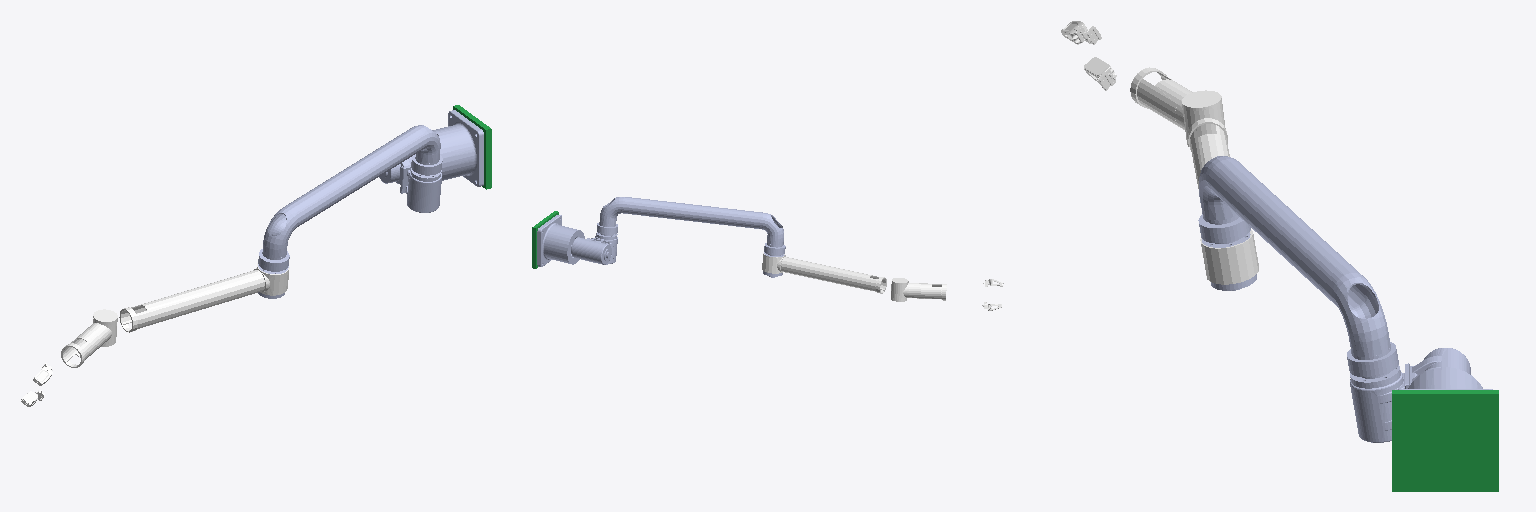
robot.urdf — gps__starlink_sldasm9:
<?xml version='1.0' encoding='utf-8'?>
<robot name="gps__starlink_sldasm9">
  <link name="base_link">
    <visual>
      <geometry>
        <mesh filename="../satellites/gps/satellite.stl" />
      </geometry>
      <material name="satellite_grey">
        <color rgba=".6 .7 .8 1" />
      </material>
    </visual>
    <collision>
      <geometry>
        <mesh filename="../satellites/gps/satellite.stl" />
      </geometry>
    </collision>
  </link>
  <link name="gps_mount" />
  <joint name="satellite_mount_fixed" type="fixed">
    <parent link="base_link" />
    <child link="gps_mount" />
    <origin xyz="-0.28457456828885463 0.0 0.15" rpy="0.0 -1.5707963267948966 0.0" />
  </joint>
  <link name="mount_support">
    <visual>
      <geometry>
        <mesh filename="../satellites/gps/mount_support.stl" />
      </geometry>
      <material name="mount_green">
        <color rgba=".2 .7 .35 1" />
      </material>
    </visual>
    <collision>
      <geometry>
        <mesh filename="../satellites/gps/mount_support.stl" />
      </geometry>
    </collision>
  </link>
  <joint name="support_fixed" type="fixed">
    <parent link="gps_mount" />
    <child link="mount_support" />
    <origin xyz="0 0 0" rpy="0 0 0" />
  </joint>
  <joint name="arm_adapter_fixed" type="fixed">
    <parent link="gps_mount" />
    <child link="starlink_space_manipulator_base_link" />
    <origin xyz="0.009087204933166504 0.008519247174263 0.15000000141561035" rpy="-1.5707963267948966 0 0" />
  </joint>
  <link name="starlink_space_manipulator_base_link">
    <inertial>
      <origin xyz="-0.00908719924946466 0.0225428225681148 -0.00851924929637313" rpy="0 0 0" />
      <mass value="8.66024015898073" />
      <inertia ixx="0.0960303512697639" ixy="1.65511904636803E-18" ixz="6.22039820639877E-19" iyy="0.103454922260914" iyz="-9.68471289978311E-19" izz="0.0960303512697639" />
    </inertial>
    <visual>
      <origin xyz="0 0 0" rpy="0 0 0" />
      <geometry>
        <mesh filename="../arms/starlink_sldasm9/meshes/starlink_space_manipulator_base_link.STL" />
      </geometry>
      <material name="">
        <color rgba="0.792156862745098 0.819607843137255 0.933333333333333 1" />
      </material>
    </visual>
    <collision>
      <origin xyz="0 0 0" rpy="0 0 0" />
      <geometry>
        <mesh filename="../arms/starlink_sldasm9/meshes/starlink_space_manipulator_base_link.STL" />
      </geometry>
    </collision>
  </link>
  <link name="starlink_space_manipulator_Shoulder_link_1">
    <inertial>
      <origin xyz="-0.000399471745595769 -0.100006574194712 -0.17423940484461" rpy="0 0 0" />
      <mass value="5.16309216784981" />
      <inertia ixx="0.0524543852135592" ixy="0.00348154867667969" ixz="6.96526910910627E-05" iyy="0.0306595326318824" iyz="-0.00056674368052247" izz="0.0439979075615329" />
    </inertial>
    <visual>
      <origin xyz="0 0 0" rpy="0 0 0" />
      <geometry>
        <mesh filename="../arms/starlink_sldasm9/meshes/starlink_space_manipulator_Shoulder_link_1.STL" />
      </geometry>
      <material name="">
        <color rgba="0.792156862745098 0.819607843137255 0.933333333333333 1" />
      </material>
    </visual>
    <collision>
      <origin xyz="0 0 0" rpy="0 0 0" />
      <geometry>
        <mesh filename="../arms/starlink_sldasm9/meshes/starlink_space_manipulator_Shoulder_link_1.STL" />
      </geometry>
    </collision>
  </link>
  <joint name="starlink_space_manipulator_Shoulder_link_1_yaw" type="revolute">
    <origin xyz="-0.0090872 -0.065 -0.0085192" rpy="1.5708 -0.15574 3.1416" />
    <parent link="starlink_space_manipulator_base_link" />
    <child link="starlink_space_manipulator_Shoulder_link_1" />
    <axis xyz="0 0 -1" />
    <limit lower="-3.14" upper="3.14" effort="0" velocity="0" />
  </joint>
  <link name="starlink_space_manipulator_Upper_arm_Link_1">
    <inertial>
      <origin xyz="0.402106341472203 -0.696465272634528 -0.170177523085579" rpy="0 0 0" />
      <mass value="5.05309869040685" />
      <inertia ixx="0.388719013133801" ixy="0.210155896498943" ixz="9.30829370680679E-08" iyy="0.146049057575642" iyz="1.71830458004218E-07" izz="0.500677708275447" />
    </inertial>
    <visual>
      <origin xyz="0 0 0" rpy="0 0 0" />
      <geometry>
        <mesh filename="../arms/starlink_sldasm9/meshes/starlink_space_manipulator_Upper_arm_Link_1.STL" />
      </geometry>
      <material name="">
        <color rgba="0.792156862745098 0.819607843137255 0.933333333333333 1" />
      </material>
    </visual>
    <collision>
      <origin xyz="0 0 0" rpy="0 0 0" />
      <geometry>
        <mesh filename="../arms/starlink_sldasm9/meshes/starlink_space_manipulator_Upper_arm_Link_1.STL" />
      </geometry>
    </collision>
  </link>
  <joint name="starlink_space_manipulator_Upper_arm_Link_1_roll" type="revolute">
    <origin xyz="0 -0.2 -0.18" rpy="1.5708 0.90646 1.5708" />
    <parent link="starlink_space_manipulator_Shoulder_link_1" />
    <child link="starlink_space_manipulator_Upper_arm_Link_1" />
    <axis xyz="0 0 -1" />
    <limit lower="-2" upper="1.5" effort="0" velocity="0" />
  </joint>
  <link name="starlink_space_manipulator_Mid_arm_Link_1">
    <inertial>
      <origin xyz="-0.000406052776441013 0.317722269561105 0.0155331755135703" rpy="0 0 0" />
      <mass value="1.57635531881168" />
      <inertia ixx="0.133610363618846" ixy="5.33750993405138E-05" ixz="-3.60473795202962E-09" iyy="0.00502119434334708" iyz="-2.514275749911E-05" izz="0.134586018527477" />
    </inertial>
    <visual>
      <origin xyz="0 0 0" rpy="0 0 0" />
      <geometry>
        <mesh filename="../arms/starlink_sldasm9/meshes/starlink_space_manipulator_Mid_arm_Link_1.STL" />
      </geometry>
      <material name="">
        <color rgba="1 1 1 1" />
      </material>
    </visual>
    <collision>
      <origin xyz="0 0 0" rpy="0 0 0" />
      <geometry>
        <mesh filename="../arms/starlink_sldasm9/meshes/starlink_space_manipulator_Mid_arm_Link_1.STL" />
      </geometry>
    </collision>
  </link>
  <joint name="starlink_space_manipulator_Mid_arm_Link_1_roll" type="revolute">
    <origin xyz="0.599999999999673 -1.03923048454122 0" rpy="-3.14159265358979 0 0.828250280535091" />
    <parent link="starlink_space_manipulator_Upper_arm_Link_1" />
    <child link="starlink_space_manipulator_Mid_arm_Link_1" />
    <axis xyz="0 0 -1" />
    <limit lower="-3.14" upper="3.14" effort="0" velocity="0" />
  </joint>
  <link name="starlink_space_manipulator_Upper_wrist_Link_1">
    <inertial>
      <origin xyz="-0.000400003664721815 -0.201565878030355 -0.00216705855311664" rpy="0 0 0" />
      <mass value="0.994770641034713" />
      <inertia ixx="0.00165409639029414" ixy="-7.59103925411082E-06" ixz="-3.17403155320863E-06" iyy="0.00201437937768072" iyz="2.63246464091218E-06" izz="0.00159638838344539" />
    </inertial>
    <visual>
      <origin xyz="0 0 0" rpy="0 0 0" />
      <geometry>
        <mesh filename="../arms/starlink_sldasm9/meshes/starlink_space_manipulator_Upper_wrist_Link_1.STL" />
      </geometry>
      <material name="">
        <color rgba="0.792156862745098 0.819607843137255 0.933333333333333 1" />
      </material>
    </visual>
    <collision>
      <origin xyz="0 0 0" rpy="0 0 0" />
      <geometry>
        <mesh filename="../arms/starlink_sldasm9/meshes/starlink_space_manipulator_Upper_wrist_Link_1.STL" />
      </geometry>
    </collision>
  </link>
  <joint name="starlink_space_manipulator_Upper_wrist_Link_1_yaw" type="revolute">
    <origin xyz="-0.00050155183276912 0.686793643713439 0.0155010481432086" rpy="0 -0.0763876794035917 3.14159265358979" />
    <parent link="starlink_space_manipulator_Mid_arm_Link_1" />
    <child link="starlink_space_manipulator_Upper_wrist_Link_1" />
    <axis xyz="0 -1 0" />
    <limit lower="-3.14" upper="3.14" effort="0" velocity="0" />
  </joint>
  <link name="starlink_space_manipulator_Upper_wrist_Link_2">
    <inertial>
      <origin xyz="8.45304168883843E-08 0.0848318719623631 -0.00515657391755576" rpy="0 0 0" />
      <mass value="1.03716823037577" />
      <inertia ixx="0.0100970561498589" ixy="1.32295633551837E-09" ixz="-9.43675929999229E-09" iyy="0.00222325407426665" iyz="-2.08772874866187E-06" izz="0.0105840577017538" />
    </inertial>
    <visual>
      <origin xyz="0 0 0" rpy="0 0 0" />
      <geometry>
        <mesh filename="../arms/starlink_sldasm9/meshes/starlink_space_manipulator_Upper_wrist_Link_2.STL" />
      </geometry>
      <material name="">
        <color rgba="1 1 1 1" />
      </material>
    </visual>
    <collision>
      <origin xyz="0 0 0" rpy="0 0 0" />
      <geometry>
        <mesh filename="../arms/starlink_sldasm9/meshes/starlink_space_manipulator_Upper_wrist_Link_2.STL" />
      </geometry>
    </collision>
  </link>
  <joint name="starlink_space_manipulator_Upper_wrist_Link_2_roll" type="revolute">
    <origin xyz="0 -0.30020635628656 0" rpy="-0.0158640776811277 -0.0317448426184613 -2.67805461574742" />
    <parent link="starlink_space_manipulator_Upper_wrist_Link_1" />
    <child link="starlink_space_manipulator_Upper_wrist_Link_2" />
    <axis xyz="0 0 1" />
    <limit lower="-2.5" upper="1.8" effort="0" velocity="0" />
  </joint>
  <link name="starlink__space_manipulator_2F-Body_Link">
    <inertial>
      <origin xyz="0.000132893636818288 -0.122912145301831 0.000141178527731878" rpy="0 0 0" />
      <mass value="2.06098061435798" />
      <inertia ixx="0.00357820981002093" ixy="-9.7173781739015E-06" ixz="-0.000377950837415894" iyy="0.00540179107539635" iyz="3.57093943209629E-06" izz="0.0050632324449311" />
    </inertial>
    <visual>
      <origin xyz="0 0 0" rpy="0 0 0" />
      <geometry>
        <mesh filename="../arms/starlink_sldasm9/meshes/starlink__space_manipulator_2F-Body_Link.STL" />
      </geometry>
      <material name="">
        <color rgba="0.792156862745098 0.819607843137255 0.933333333333333 1" />
      </material>
    </visual>
    <collision>
      <origin xyz="0 0 0" rpy="0 0 0" />
      <geometry>
        <mesh filename="../arms/starlink_sldasm9/meshes/starlink__space_manipulator_2F-Body_Link.STL" />
      </geometry>
    </collision>
  </link>
  <joint name="starlink__space_manipulator_2F-Body_Link_yaw" type="revolute">
    <origin xyz="0 0.34845 -0.0053813" rpy="-3.1416 0.93592 0" />
    <parent link="starlink_space_manipulator_Upper_wrist_Link_2" />
    <child link="starlink__space_manipulator_2F-Body_Link" />
    <axis xyz="0 -1 0" />
    <limit lower="-3.14" upper="3.14" effort="0" velocity="0" />
  </joint>
  <link name="starlink_space_manipulator_Finger1_2_Link">
    <inertial>
      <origin xyz="-0.128379781160824 0.00213384929263816 0.20765530277947" rpy="0 0 0" />
      <mass value="0.164012557851557" />
      <inertia ixx="0.000137377814382494" ixy="5.75324125943043E-07" ixz="1.56204374379134E-05" iyy="0.000128174497717794" iyz="2.8915711708103E-06" izz="5.56877077151319E-05" />
    </inertial>
    <visual>
      <origin xyz="0 0 0" rpy="0 0 0" />
      <geometry>
        <mesh filename="../arms/starlink_sldasm9/meshes/starlink_space_manipulator_Finger1_2_Link.STL" />
      </geometry>
      <material name="">
        <color rgba="1 1 1 1" />
      </material>
    </visual>
    <collision>
      <origin xyz="0 0 0" rpy="0 0 0" />
      <geometry>
        <mesh filename="../arms/starlink_sldasm9/meshes/starlink_space_manipulator_Finger1_2_Link.STL" />
      </geometry>
    </collision>
  </link>
  <joint name="starlink_space_manipulator_Finger1_2_Link_roll" type="prismatic">
    <origin xyz="-0.2017 -0.10916 -0.04801" rpy="-1.5708 0.22747 -3.1416" />
    <parent link="starlink__space_manipulator_2F-Body_Link" />
    <child link="starlink_space_manipulator_Finger1_2_Link" />
    <axis xyz="-1 0 0" />
    <limit lower="0.0" upper="0.04" effort="20" velocity="0" />
  </joint>
  <link name="starlink_space_manipulator_Finger2_1_Link">
    <inertial>
      <origin xyz="-0.128379783275286 0.0021338497374519 0.207655316264438" rpy="0 0 0" />
      <mass value="0.164012525176243" />
      <inertia ixx="0.000137377758573247" ixy="5.75327227385201E-07" ixz="1.56204303396715E-05" iyy="0.00012817444752134" iyz="2.89153901545968E-06" izz="5.5687711839857E-05" />
    </inertial>
    <visual>
      <origin xyz="0 0 0" rpy="0 0 0" />
      <geometry>
        <mesh filename="../arms/starlink_sldasm9/meshes/starlink_space_manipulator_Finger2_1_Link.STL" />
      </geometry>
      <material name="">
        <color rgba="1 1 1 1" />
      </material>
    </visual>
    <collision>
      <origin xyz="0 0 0" rpy="0 0 0" />
      <geometry>
        <mesh filename="../arms/starlink_sldasm9/meshes/starlink_space_manipulator_Finger2_1_Link.STL" />
      </geometry>
    </collision>
  </link>
  <joint name="starlink_space_manipulator_Finger2_1_Link_roll" type="prismatic">
    <origin xyz="0.20865 -0.10916 0.049619" rpy="1.5708 -0.22747 0" />
    <parent link="starlink__space_manipulator_2F-Body_Link" />
    <child link="starlink_space_manipulator_Finger2_1_Link" />
    <axis xyz="-1 0 0" />
    <limit lower="0.0" upper="0.04" effort="20" velocity="0" />
  </joint>
</robot>

--- Render facts (derived) ---
The picture shows the robot from 3 angles, left to right: view 1: azimuth 30°, elevation 25°; view 2: azimuth 150°, elevation 25°; view 3: azimuth 270°, elevation 25°; orthographic projection.
Model gps__starlink_sldasm9 with 12 links and 11 joints (6 revolute, 2 prismatic, 3 fixed), rooted at base_link, posed all joints at 0.
Links seen in each view (by area): view 1: starlink_space_manipulator_Upper_arm_Link_1, starlink_space_manipulator_Mid_arm_Link_1, starlink_space_manipulator_base_link, starlink_space_manipulator_Shoulder_link_1, starlink_space_manipulator_Upper_wrist_Link_2, mount_support; view 2: starlink_space_manipulator_Upper_arm_Link_1, starlink_space_manipulator_Mid_arm_Link_1, starlink_space_manipulator_base_link, starlink_space_manipulator_Shoulder_link_1, starlink_space_manipulator_Upper_wrist_Link_2; view 3: starlink_space_manipulator_Upper_arm_Link_1, mount_support, starlink_space_manipulator_Shoulder_link_1, starlink_space_manipulator_Mid_arm_Link_1, starlink_space_manipulator_Upper_wrist_Link_2, starlink_space_manipulator_base_link, starlink_space_manipulator_Finger1_2_Link, starlink_space_manipulator_Finger2_1_Link.
Link boxes in pixels (x1,y1,x2,y2): starlink_space_manipulator_Upper_arm_Link_1: [258, 125, 440, 298]; starlink_space_manipulator_Mid_arm_Link_1: [119, 263, 289, 332]; starlink_space_manipulator_base_link: [432, 110, 483, 186]; starlink_space_manipulator_Shoulder_link_1: [379, 154, 442, 212]; starlink_space_manipulator_Upper_wrist_Link_2: [61, 309, 117, 367]; mount_support: [453, 105, 491, 189]; starlink_space_manipulator_Upper_arm_Link_1: [599, 197, 785, 277]; starlink_space_manipulator_Mid_arm_Link_1: [762, 253, 886, 293]; starlink_space_manipulator_base_link: [537, 215, 584, 266]; starlink_space_manipulator_Shoulder_link_1: [571, 223, 617, 264]; starlink_space_manipulator_Upper_wrist_Link_2: [891, 278, 946, 301]; starlink_space_manipulator_Upper_arm_Link_1: [1198, 156, 1390, 359]; mount_support: [1392, 390, 1498, 491]; starlink_space_manipulator_Shoulder_link_1: [1347, 342, 1470, 442]; starlink_space_manipulator_Mid_arm_Link_1: [1187, 118, 1258, 284]; starlink_space_manipulator_Upper_wrist_Link_2: [1130, 67, 1225, 146]; starlink_space_manipulator_base_link: [1398, 367, 1492, 389]; starlink_space_manipulator_Finger1_2_Link: [1061, 21, 1101, 44]; starlink_space_manipulator_Finger2_1_Link: [1084, 57, 1116, 90].
Bounding box of the posed robot: 3.15 × 1.31 × 0.5961 m (x, y, z).
Meshes: 11 distinct files referenced, 8 mesh visuals loaded (8 binary STL); not drawn: 3 (reference not matched to a file when rendering).
